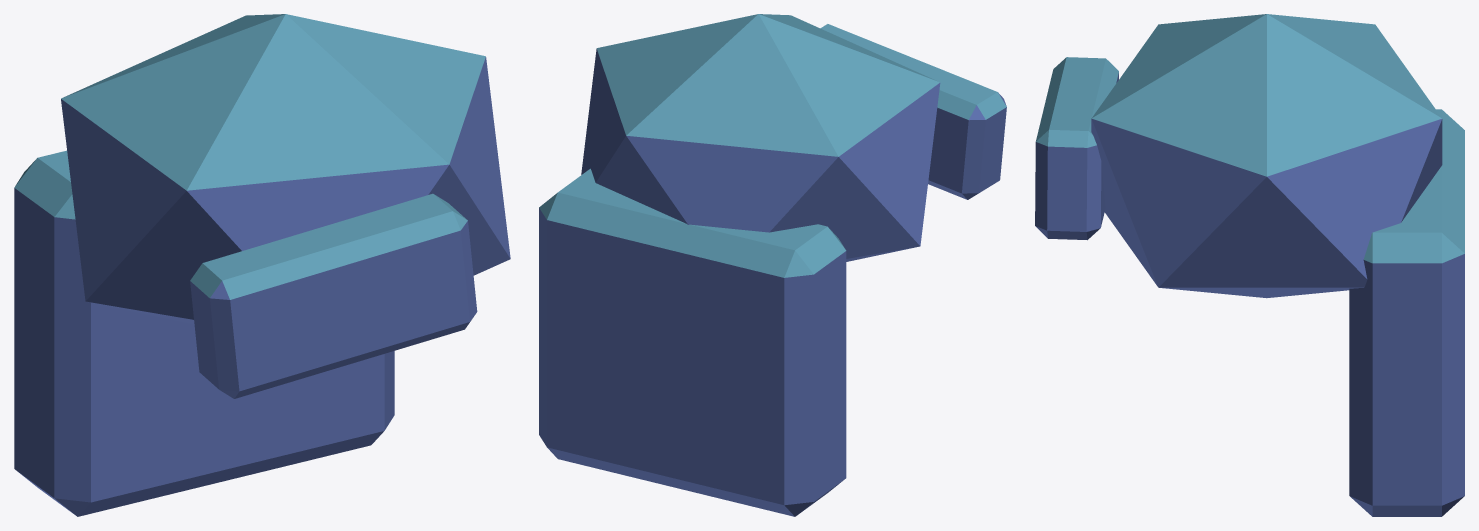
File: npc_module_hair_1_v01.glb
The picture shows the model from 3 angles, left to right: view 1: azimuth 30°, elevation 25°; view 2: azimuth 150°, elevation 25°; view 3: azimuth 270°, elevation 25°; orthographic projection. The views are drawn at different scales.
Parts seen in each view (by area): view 1: GEO_npc_module_hair_1_v01; view 2: GEO_npc_module_hair_1_v01; view 3: GEO_npc_module_hair_1_v01.
Boxes of the visible parts, box(x1,y1,x2,y2) form: GEO_npc_module_hair_1_v01: box(14, 14, 510, 516); GEO_npc_module_hair_1_v01: box(539, 14, 1006, 516); GEO_npc_module_hair_1_v01: box(1035, 14, 1464, 516).
Size of the model in its own units: 0.966 by 1.18 by 1.04.
